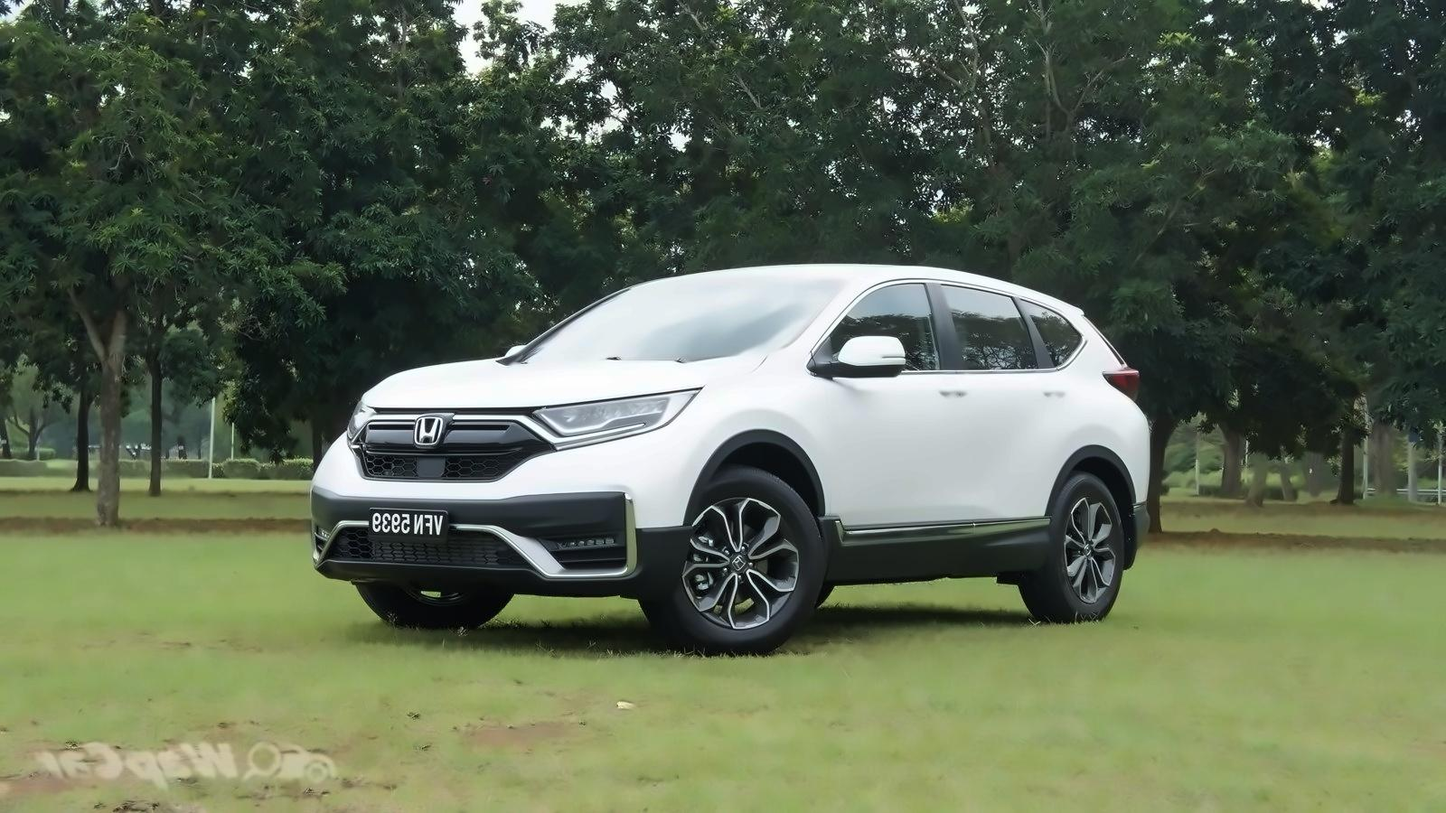Car hood: (351, 357, 754, 412)
Fender - -F-L-: (696, 352, 847, 599)
Fender - -R-R-: (1040, 359, 1168, 526)
Front bumper: (303, 437, 699, 605)
Headlight - -L-: (339, 383, 385, 451)
Headlight - -R-: (527, 382, 713, 455)
Passenger-s door - -F-L-: (817, 265, 977, 537), (945, 267, 1080, 526)
Passenger-s door - -R-L-: (1084, 426, 1085, 427)
Rear bumper: (1115, 460, 1186, 580)
Rear light - -L-: (1095, 348, 1156, 408)
Side bumper - -L-: (813, 511, 1076, 592)
Side mirror - -L-: (823, 322, 913, 390)
Side mirror - -R-: (491, 336, 533, 373)
